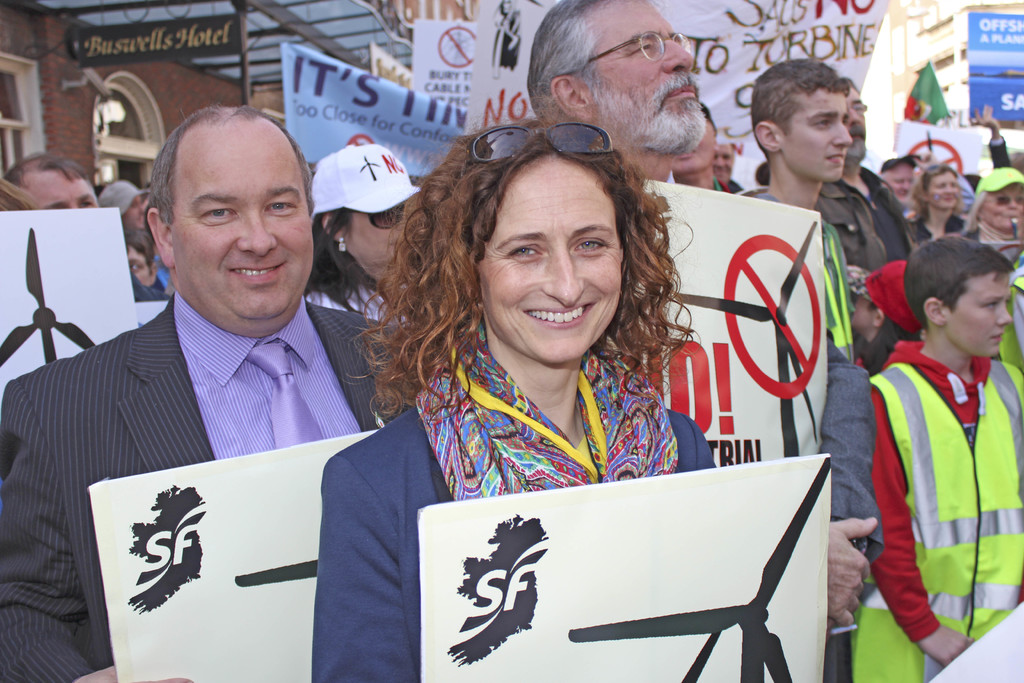Human-face: (479, 163, 621, 357), (169, 134, 317, 320), (585, 0, 704, 142), (787, 94, 852, 181), (952, 267, 1011, 354), (348, 213, 403, 264), (984, 181, 1023, 224), (929, 169, 960, 206), (886, 165, 918, 198)
